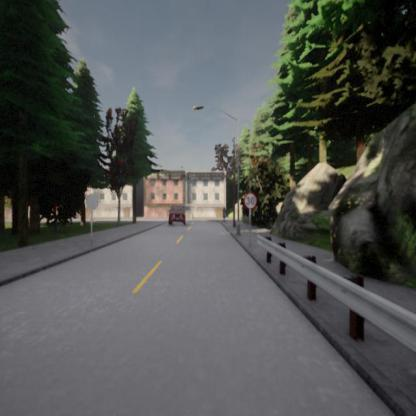traffic_sign_30: (243, 193, 256, 208)
vehicle: (169, 206, 187, 226)
